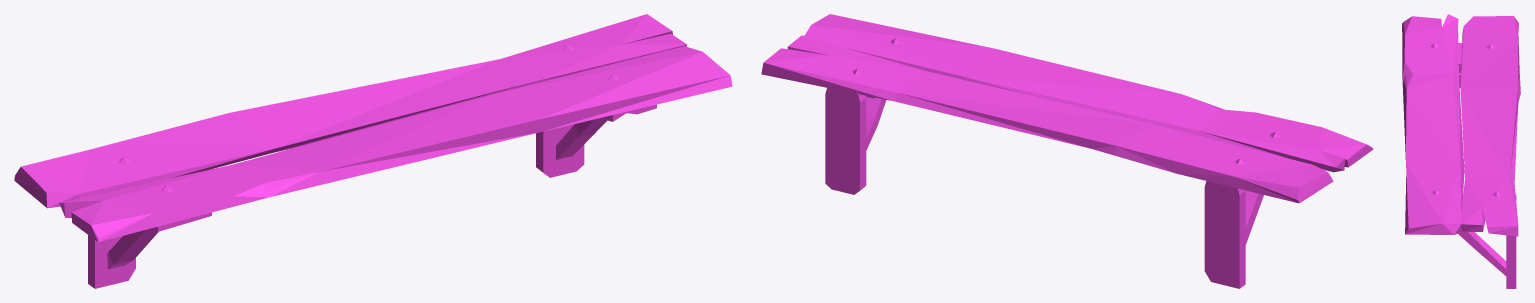
Rendered from SM_Shelf_Wall_Rustic_A_Fantasy.fbx.
3 views of the same model, side by side, from view 1: azimuth 30°, elevation 25°; view 2: azimuth 150°, elevation 25°; view 3: azimuth 270°, elevation 25° (orthographic). The views are drawn at different scales.
Visible parts, largest first — view 1: SM_Shelf_Wall_Rustic_A_Fantasy; view 2: SM_Shelf_Wall_Rustic_A_Fantasy; view 3: SM_Shelf_Wall_Rustic_A_Fantasy.
Part boxes in pixels (x1=…): SM_Shelf_Wall_Rustic_A_Fantasy: x1=14, y1=14, x2=732, y2=288; SM_Shelf_Wall_Rustic_A_Fantasy: x1=761, y1=14, x2=1373, y2=288; SM_Shelf_Wall_Rustic_A_Fantasy: x1=1402, y1=14, x2=1520, y2=288.
Size of the model in its own units: 2 by 0.4144 by 0.4744.
